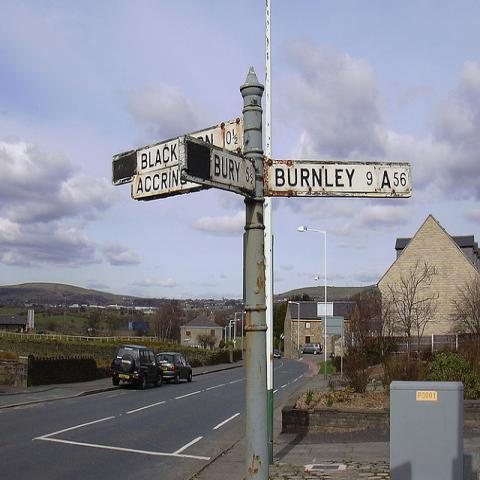car: (109, 344, 165, 389), (158, 353, 194, 385), (299, 343, 323, 356), (274, 350, 281, 359)
truck: (133, 322, 148, 330)
